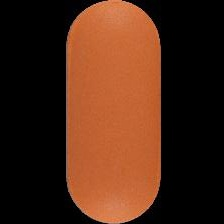0093-0321: (0, 0, 224, 224)
